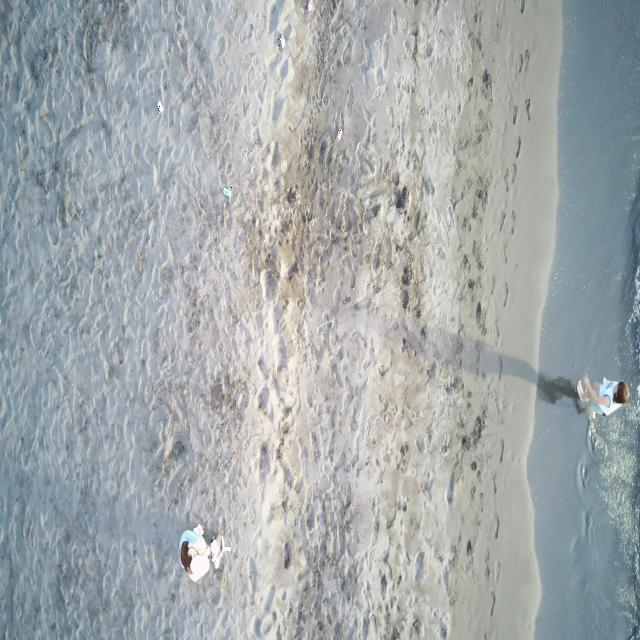Garbage: (276, 32, 283, 48), (156, 100, 163, 112), (335, 128, 342, 140), (223, 187, 231, 196), (307, 0, 312, 11)
